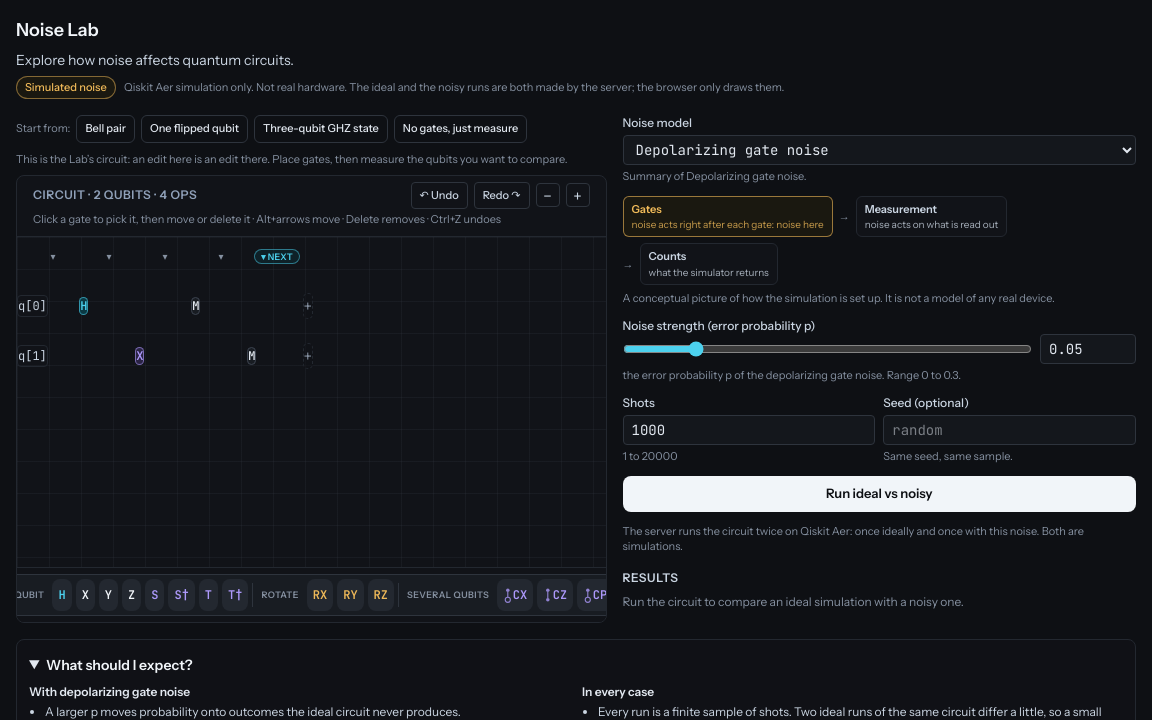
Test case: the result is a pure function of the response › if the server returns no noisy run, no noisy number and no noisy card appears (nothing is filled in)
The image size is (1152, 720).
expect the dropdown labelled "Noise model" is shown: met, box [622,134,1136,164]
Click the button "Run ideal vs noisy" at (879, 494), box [622,476,1136,512]
(page scrolled)
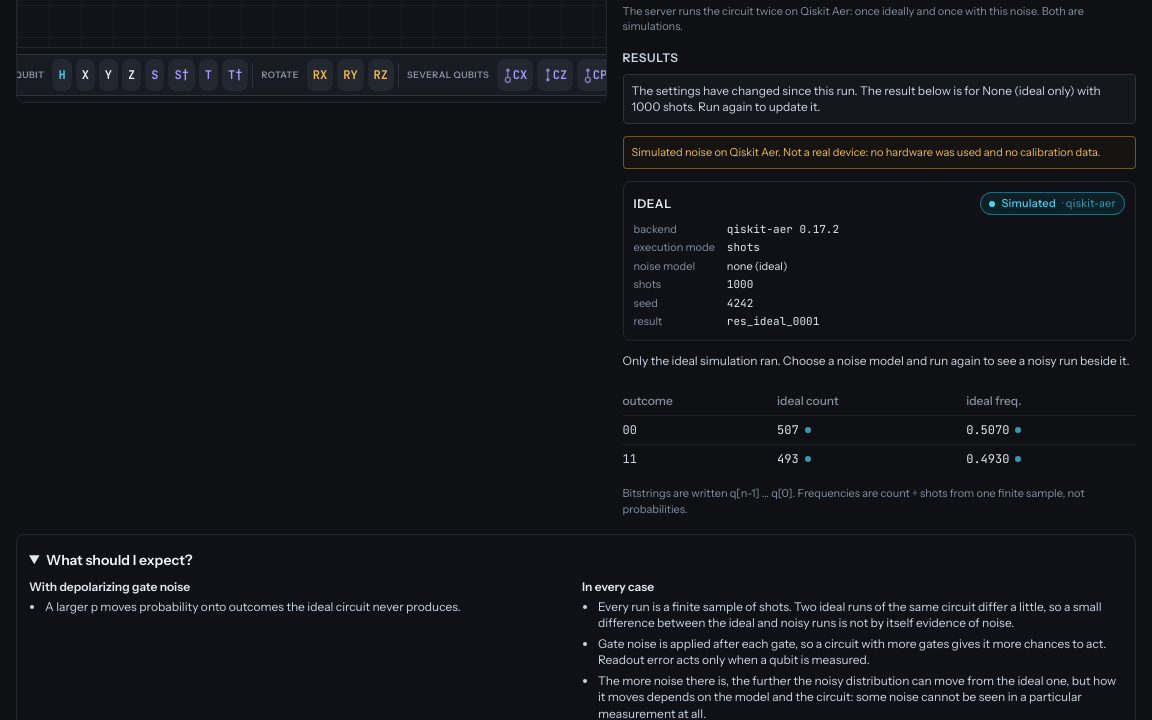
expect the element with test id "noise-result" is shown: met, box [622,136,1136,518]
expect the text with test id "ideal-only-note" is shown: met, box [622,353,1136,369]
